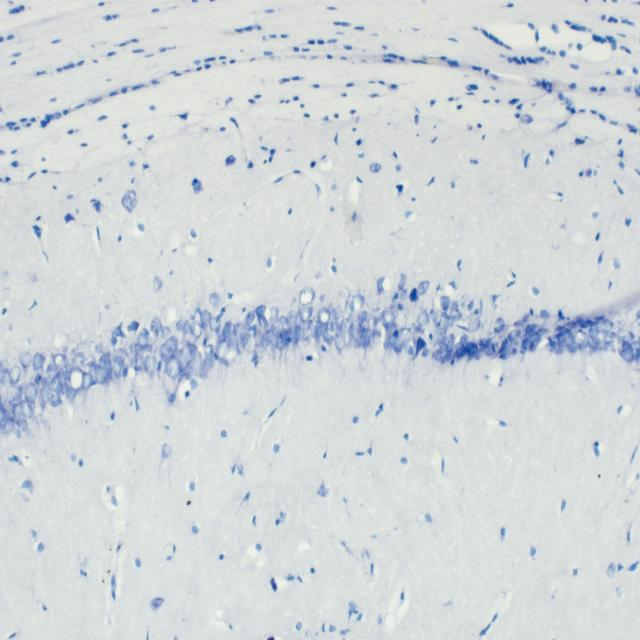neuron: (124, 342, 148, 372), (236, 322, 251, 351), (68, 366, 84, 392), (223, 345, 241, 367), (166, 354, 180, 378), (182, 326, 196, 350), (144, 354, 157, 379), (63, 345, 75, 372), (606, 331, 624, 349), (299, 286, 316, 305), (64, 381, 78, 404), (432, 347, 452, 363), (228, 325, 240, 351), (386, 322, 398, 348), (216, 339, 230, 361), (195, 341, 208, 364), (19, 398, 33, 419), (150, 316, 162, 340), (180, 346, 193, 368), (574, 329, 589, 348), (93, 364, 107, 384), (51, 376, 65, 395), (138, 328, 150, 350), (8, 364, 21, 384), (361, 324, 371, 350), (298, 306, 314, 322), (9, 385, 24, 402), (260, 328, 271, 351), (25, 382, 37, 403), (334, 332, 346, 353), (165, 335, 178, 354), (200, 309, 211, 331), (103, 358, 113, 382), (286, 310, 298, 330), (618, 328, 634, 343), (596, 332, 608, 352), (18, 351, 32, 368), (72, 352, 85, 370), (159, 343, 172, 361), (468, 316, 481, 334), (114, 356, 124, 379), (14, 402, 26, 421), (34, 352, 46, 371), (82, 372, 94, 391), (322, 327, 334, 346), (16, 417, 30, 433), (600, 318, 614, 334), (190, 321, 203, 338), (340, 317, 353, 334), (399, 327, 412, 344), (417, 310, 430, 327), (455, 334, 468, 351), (618, 349, 635, 362), (292, 326, 303, 346), (272, 319, 284, 337), (318, 306, 330, 324), (352, 294, 364, 312), (310, 324, 325, 338), (204, 354, 215, 373), (3, 417, 16, 433), (280, 316, 292, 333), (157, 359, 167, 379), (210, 316, 221, 334), (393, 313, 407, 327), (50, 391, 62, 407), (111, 335, 123, 351), (383, 310, 395, 326), (41, 387, 50, 408), (56, 370, 67, 387), (112, 347, 123, 364), (299, 320, 312, 334), (417, 281, 430, 295), (486, 343, 500, 356), (53, 353, 65, 368), (41, 378, 51, 396), (222, 320, 232, 338), (269, 331, 279, 349), (209, 292, 220, 308), (439, 296, 450, 312), (476, 346, 489, 359), (127, 320, 139, 334), (277, 334, 286, 352), (589, 324, 598, 342), (0, 358, 10, 374), (246, 310, 256, 326), (494, 316, 504, 332), (357, 310, 368, 324), (350, 327, 360, 342), (0, 388, 9, 404), (126, 366, 137, 379), (160, 326, 171, 339), (450, 308, 463, 319), (0, 407, 7, 427), (442, 335, 452, 349), (513, 318, 527, 328), (580, 319, 594, 329), (3, 408, 14, 420), (529, 332, 540, 344), (48, 364, 58, 377), (134, 343, 144, 356), (508, 330, 521, 340), (154, 276, 162, 292), (344, 332, 352, 348), (389, 304, 398, 318), (7, 399, 15, 414), (84, 362, 94, 374), (96, 342, 106, 354), (99, 352, 111, 362), (205, 344, 213, 359), (444, 316, 454, 328), (525, 323, 537, 333), (521, 338, 531, 349), (0, 374, 9, 386), (176, 320, 184, 333), (436, 327, 446, 337), (631, 340, 640, 351), (183, 320, 190, 334), (399, 288, 407, 300), (429, 310, 438, 320), (335, 321, 343, 332), (537, 328, 548, 336), (332, 308, 339, 320), (441, 312, 450, 321), (422, 348, 429, 359), (36, 373, 42, 385), (328, 321, 334, 333), (408, 345, 414, 356), (358, 323, 363, 336), (144, 344, 152, 352), (15, 429, 21, 438), (468, 300, 473, 310), (452, 301, 459, 308), (474, 309, 479, 315)
